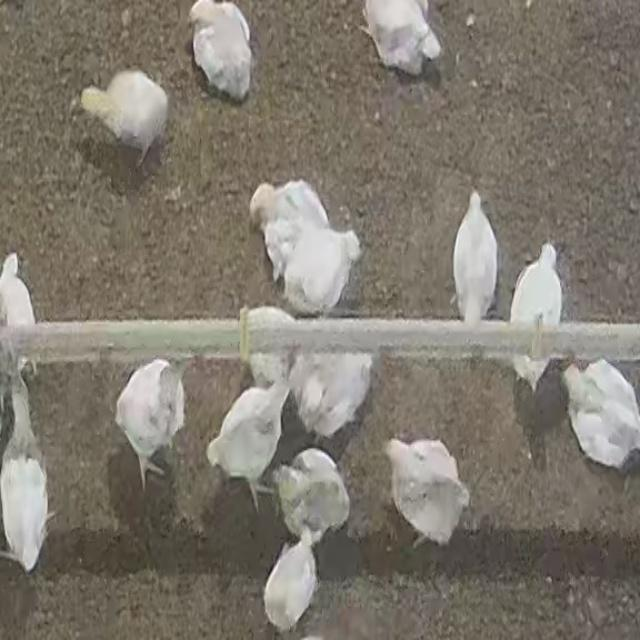chicken: (204, 364, 297, 513), (109, 358, 194, 492), (383, 429, 470, 558), (76, 65, 172, 169), (565, 361, 640, 476), (506, 238, 562, 390), (183, 0, 257, 103), (278, 449, 357, 544), (448, 184, 502, 318), (255, 539, 321, 632)
